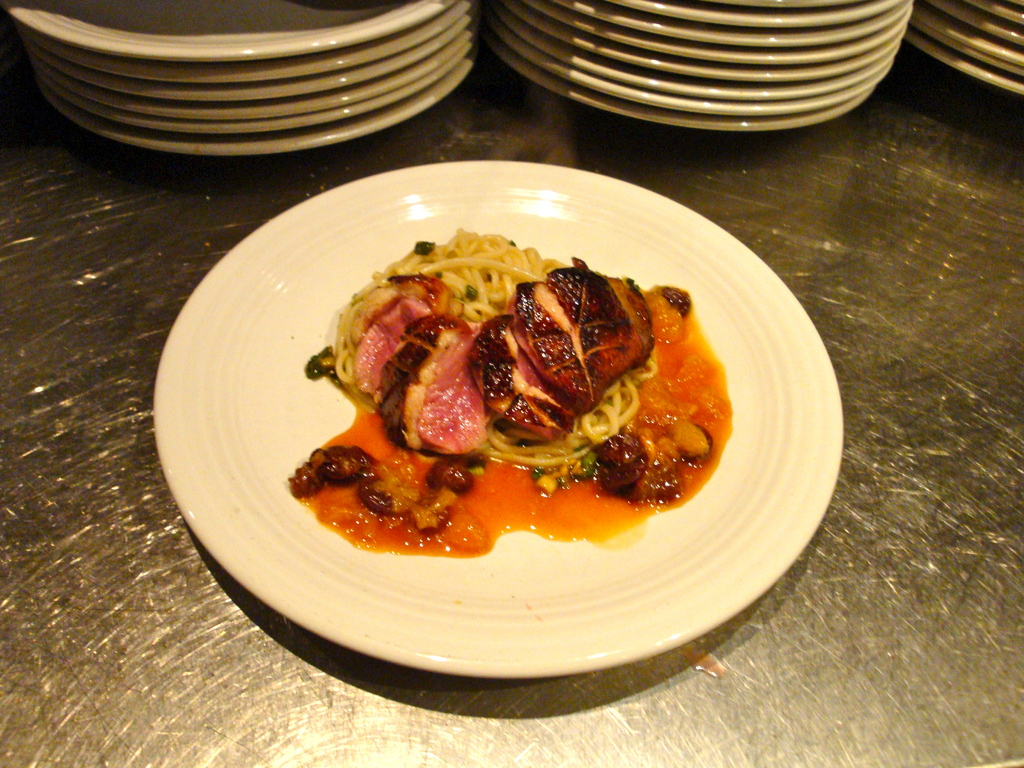plate: (135, 142, 864, 719)
